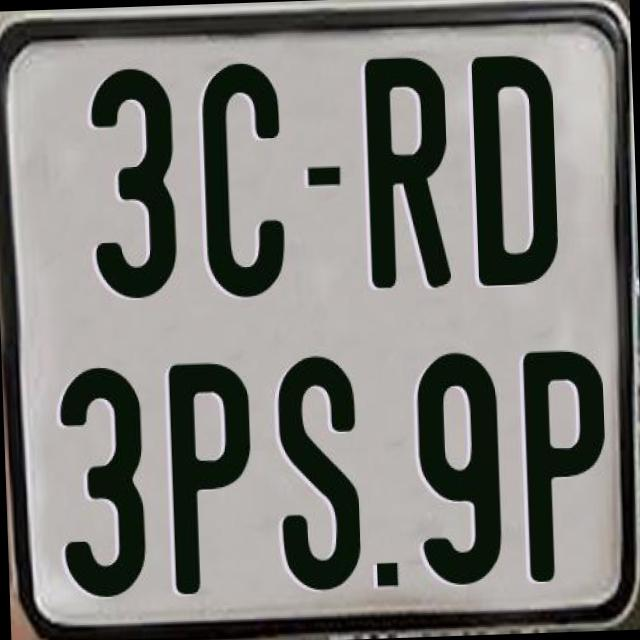3: (58, 366, 154, 599), (90, 66, 183, 299)
9: (414, 348, 505, 584)
C: (199, 57, 290, 297)
D: (470, 51, 560, 284)
P: (164, 360, 254, 594), (518, 347, 608, 580)
R: (364, 56, 454, 292)
S: (272, 354, 366, 600)
